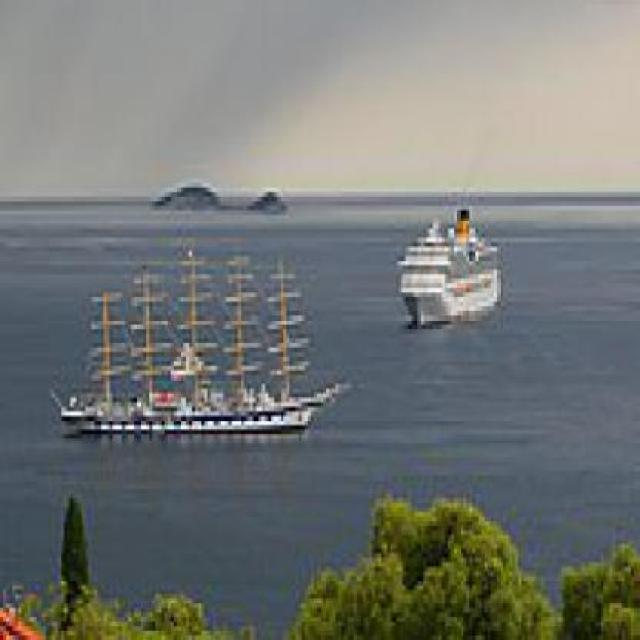cruise: (388, 198, 512, 349)
